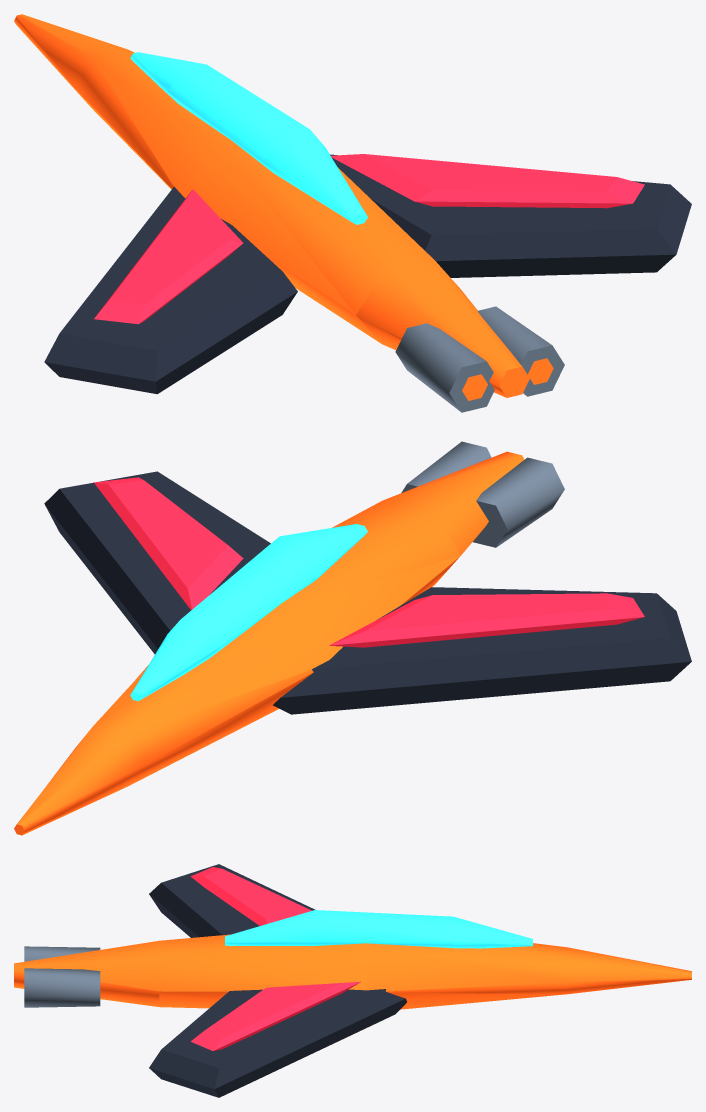
File: fast_enemy_mockup.glb
3 renders of one model, top to bottom at view 1: azimuth 30°, elevation 25°; view 2: azimuth 150°, elevation 25°; view 3: azimuth 270°, elevation 25°, orthographic. The views are drawn at different scales.
Visible parts, largest first — view 1: FAST // RAZOR Mk II; view 2: FAST // RAZOR Mk II; view 3: FAST // RAZOR Mk II.
Part boxes in pixels (x1,y1,x2,y2): FAST // RAZOR Mk II: (14, 14, 691, 412); FAST // RAZOR Mk II: (14, 441, 691, 835); FAST // RAZOR Mk II: (14, 864, 691, 1097).
Bounding box in the file's own units: 2.96 × 0.5431 × 3.92.
